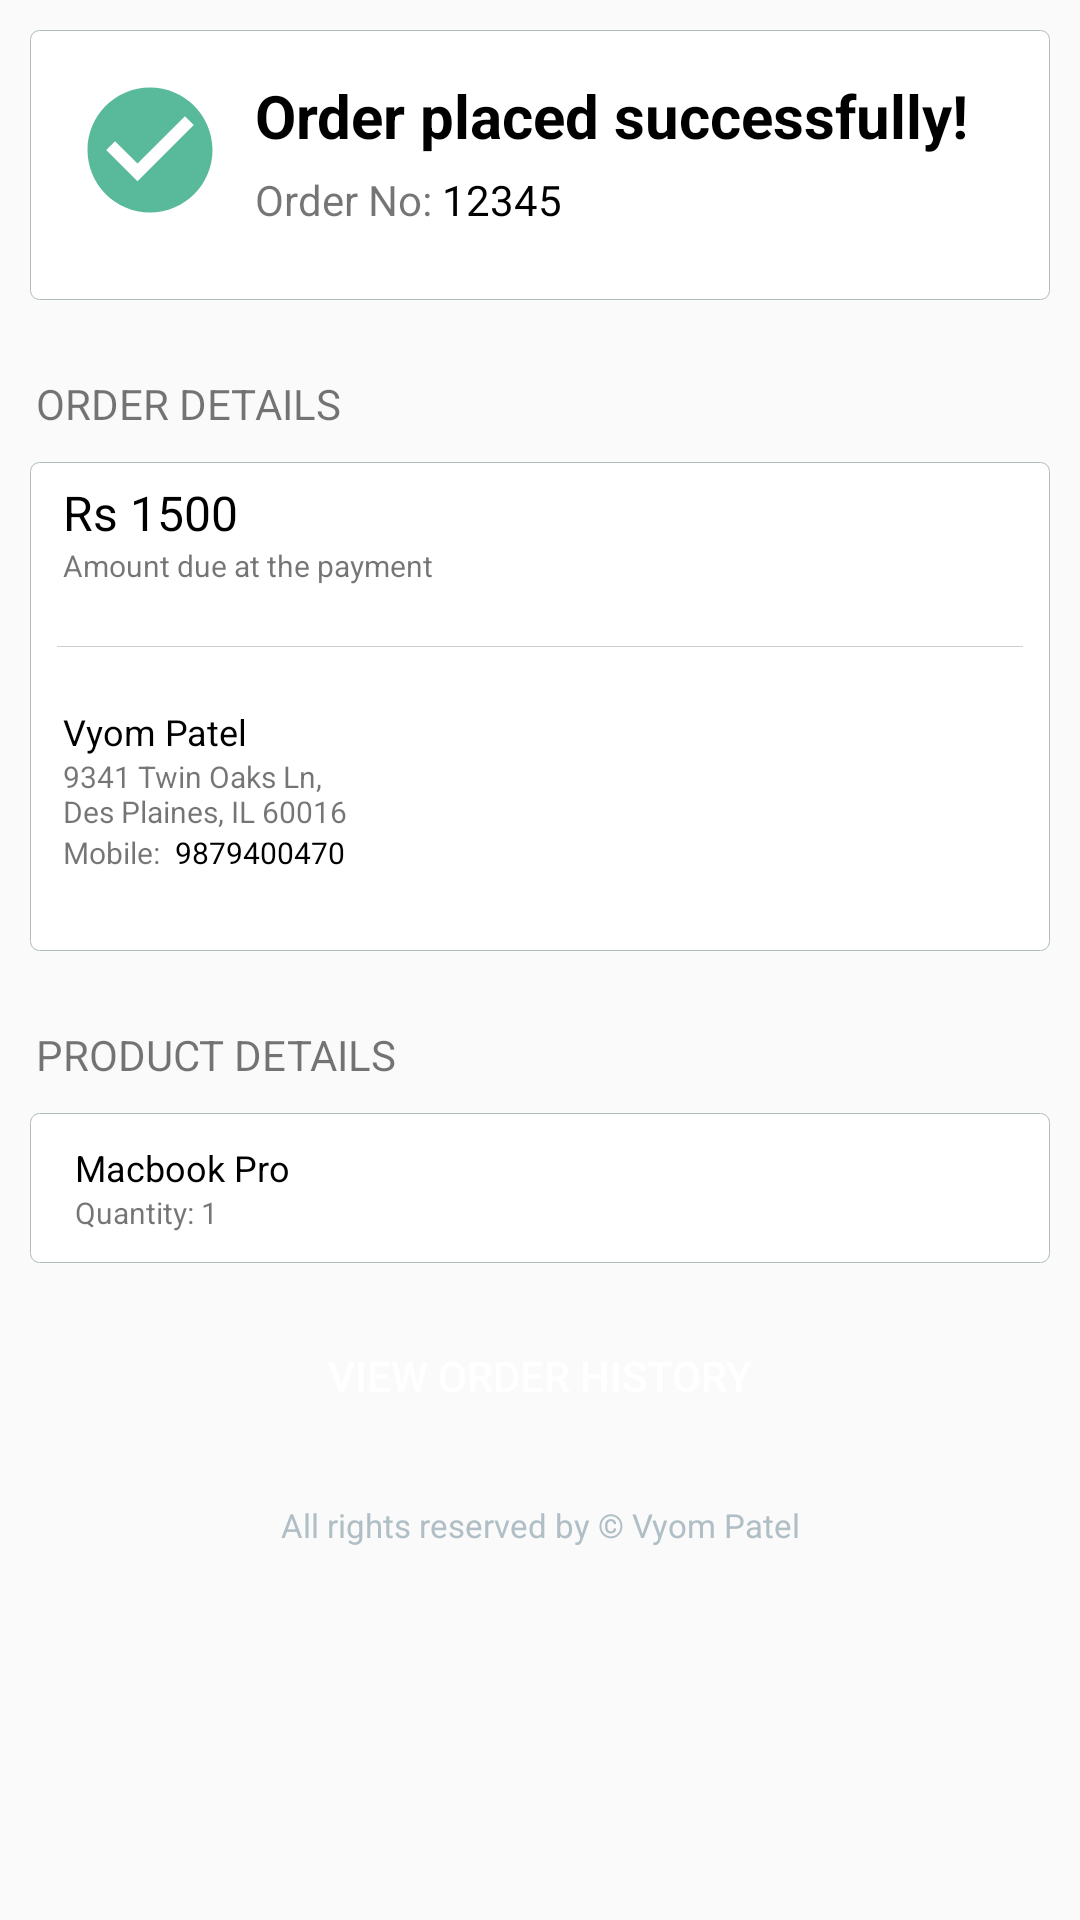

Screen size 1080px×1920px. Icon name, then its center in pixels as [x,y]:
order confirm: [150,150]
